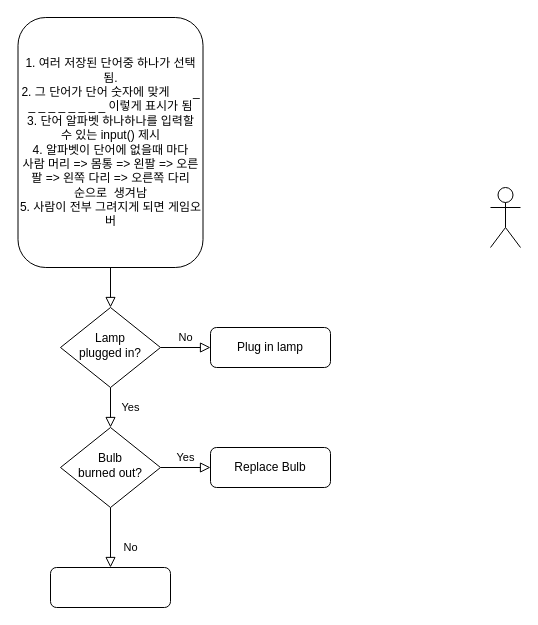
The diagram is 538 pixels wide and 625 high, and some of its shapes have lost their labels. Here are the shapes that lost their labels. From the top down, the centre of each, then its label:
At point 505,217: "Actor".
At point 110,587: "Repair Lamp".
